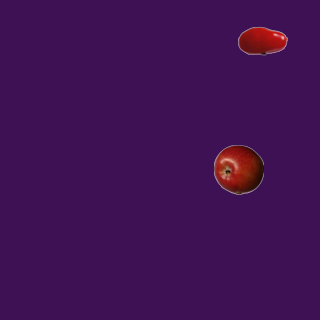Apple Braeburn: (213, 144, 263, 194)
Tomato 2: (237, 15, 287, 65)
